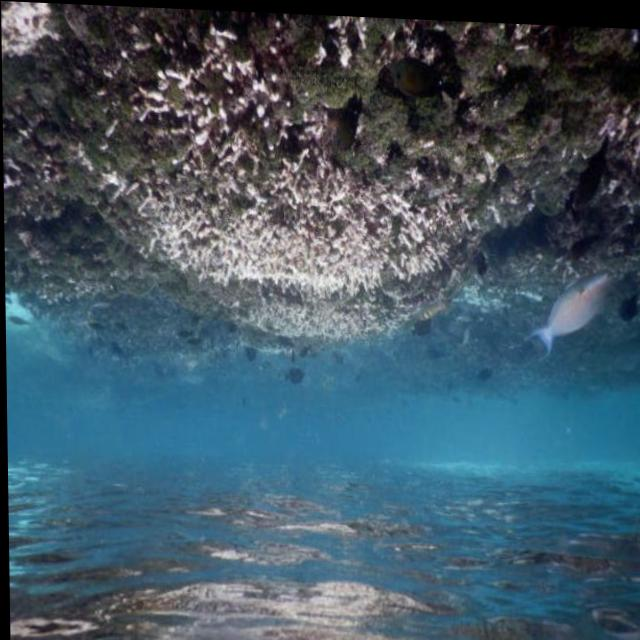Dead Coral: (166, 155, 433, 344)
